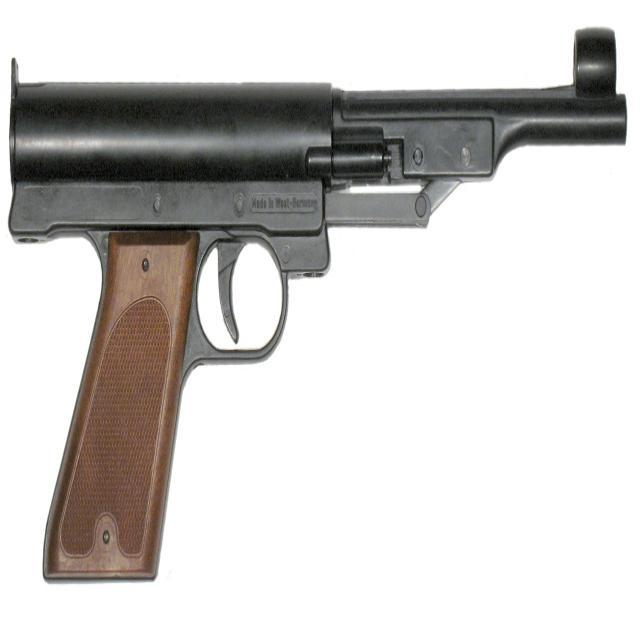Pistol: (4, 35, 633, 602)
